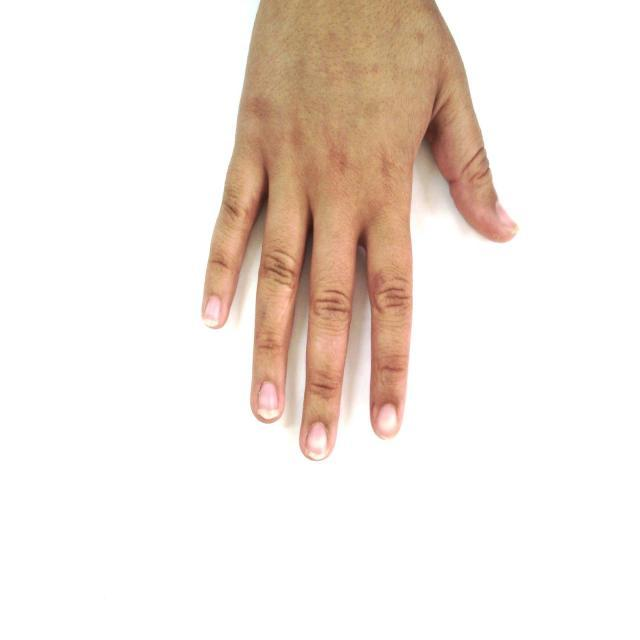Fingernail: (305, 422, 328, 460), (377, 402, 398, 440), (258, 382, 279, 419), (498, 202, 518, 229), (204, 297, 220, 326)
